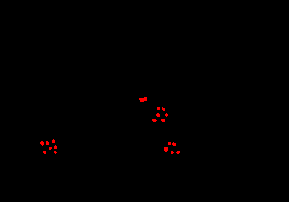Target: (139, 97, 147, 102), (40, 141, 44, 146), (164, 147, 168, 152), (156, 113, 160, 117), (172, 142, 176, 146), (152, 119, 157, 122), (162, 107, 165, 111), (165, 113, 168, 117), (161, 119, 165, 122), (52, 139, 55, 143), (46, 141, 49, 145), (54, 145, 57, 149), (176, 151, 180, 154), (157, 107, 160, 110), (168, 142, 171, 145), (49, 147, 52, 150), (43, 151, 46, 154), (54, 151, 57, 154), (171, 151, 174, 154)
